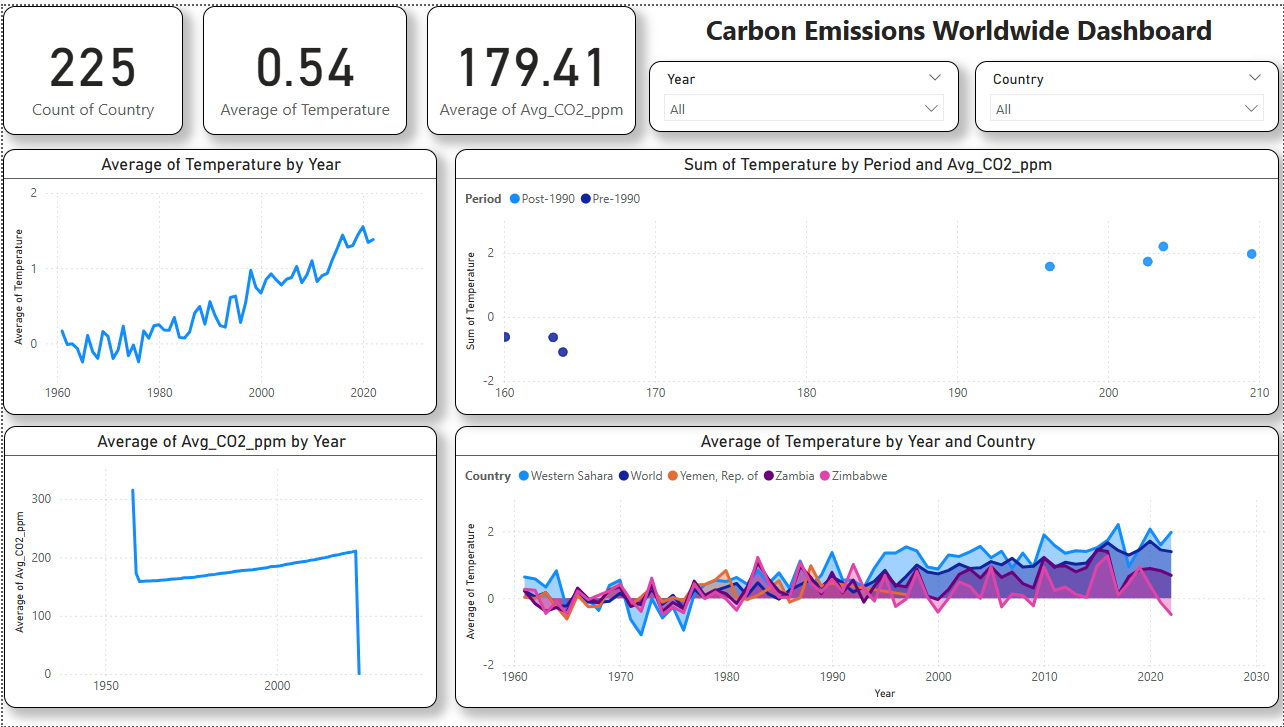

The page's visual inventory and layout, read from the dashboard file:
{"tool":"powerbi","page":{"name":"Page 1","canvas":[1280,720],"ordinal":0},"visuals":[{"type":"card","fields":{"Values":["Count(df_temp_melted.Country)"]},"box":[0,0,179.9,129.4],"z":0},{"type":"card","fields":{"Values":["Avg(df_temp_melted.Temperature)"]},"box":[200.4,0,203.3,129.4],"z":1000},{"type":"lineChart","fields":{"Y":["Avg(df_temp_melted.Temperature)"],"Category":["df_temp_melted.Year"]},"box":[0,143,433.8,266.5],"z":2000},{"type":"card","fields":{"Values":["Avg(df_co2_yearly.Avg_CO2_ppm)"]},"box":[424.1,0,209.1,129.4],"z":3000},{"type":"lineChart","fields":{"Category":["df_co2_yearly.Year"],"Y":["Avg(df_co2_yearly.Avg_CO2_ppm)"]},"box":[1,420.2,432.8,282.1],"z":4000},{"type":"slicer","fields":{"Values":["df_co2_yearly.Year"]},"box":[645.8,55.4,310.3,71],"z":5000},{"type":"slicer","fields":{"Values":["df_temp_melted.Country"]},"box":[971.7,55.4,304.4,71],"z":6000},{"type":"textbox","box":[664.3,0,583.6,51.6],"z":7000},{"type":"areaChart","fields":{"Y":["Avg(df_temp_melted.Temperature)"],"Series":["df_temp_melted.Country"],"Category":["df_temp_melted.Year"]},"box":[452.3,420.2,823.8,282.1],"z":8000},{"type":"scatterChart","fields":{"X":["df_co2_yearly.Avg_CO2_ppm"],"Series":["df_temp_world.Period"],"Y":["Sum(df_temp_melted.Temperature)"]},"box":[452.3,143,823.8,266.5],"z":9000}]}

Visuals, with their boxes in screenshot pixels (x1, y1, x2, y2), scaled from the page's 1280x720 canvas onto the 1284x727 screenshot:
card - Count(df_temp_melted.Country): crop(0, 0, 180, 131)
card - Avg(df_temp_melted.Temperature): crop(201, 0, 405, 131)
lineChart - Avg(df_temp_melted.Temperature) x df_temp_melted.Year: crop(0, 144, 435, 413)
card - Avg(df_co2_yearly.Avg_CO2_ppm): crop(425, 0, 635, 131)
lineChart - df_co2_yearly.Year x Avg(df_co2_yearly.Avg_CO2_ppm): crop(1, 424, 435, 709)
slicer - df_co2_yearly.Year: crop(648, 56, 959, 128)
slicer - df_temp_melted.Country: crop(975, 56, 1280, 128)
textbox: crop(666, 0, 1252, 52)
areaChart - Avg(df_temp_melted.Temperature) x df_temp_melted.Country: crop(454, 424, 1280, 709)
scatterChart - df_co2_yearly.Avg_CO2_ppm x df_temp_world.Period: crop(454, 144, 1280, 413)
